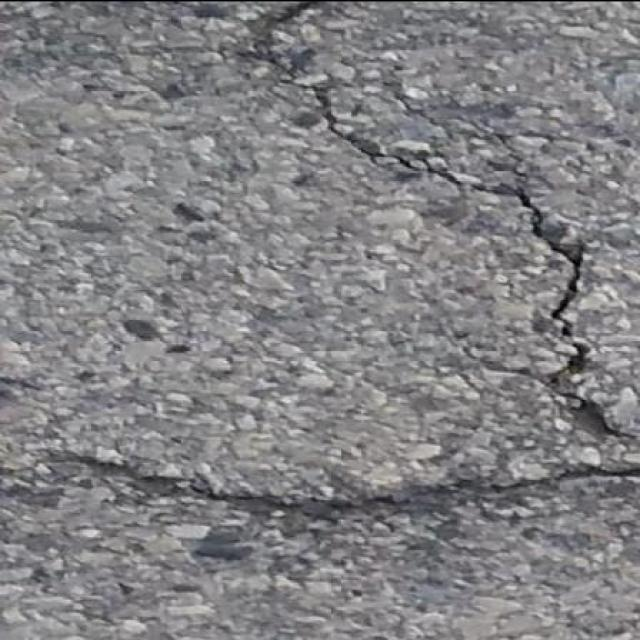Crack: (281, 67, 584, 279), (71, 458, 639, 514), (550, 280, 639, 440), (258, 0, 321, 60)
